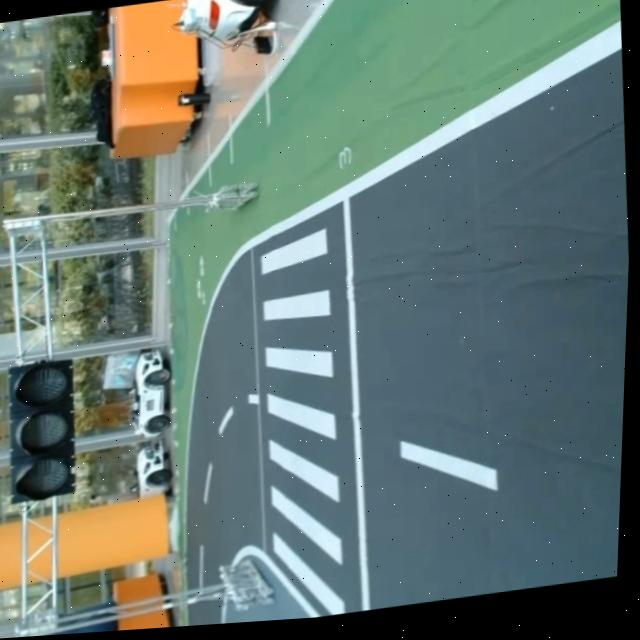traffic-light: (0, 348, 83, 509)
